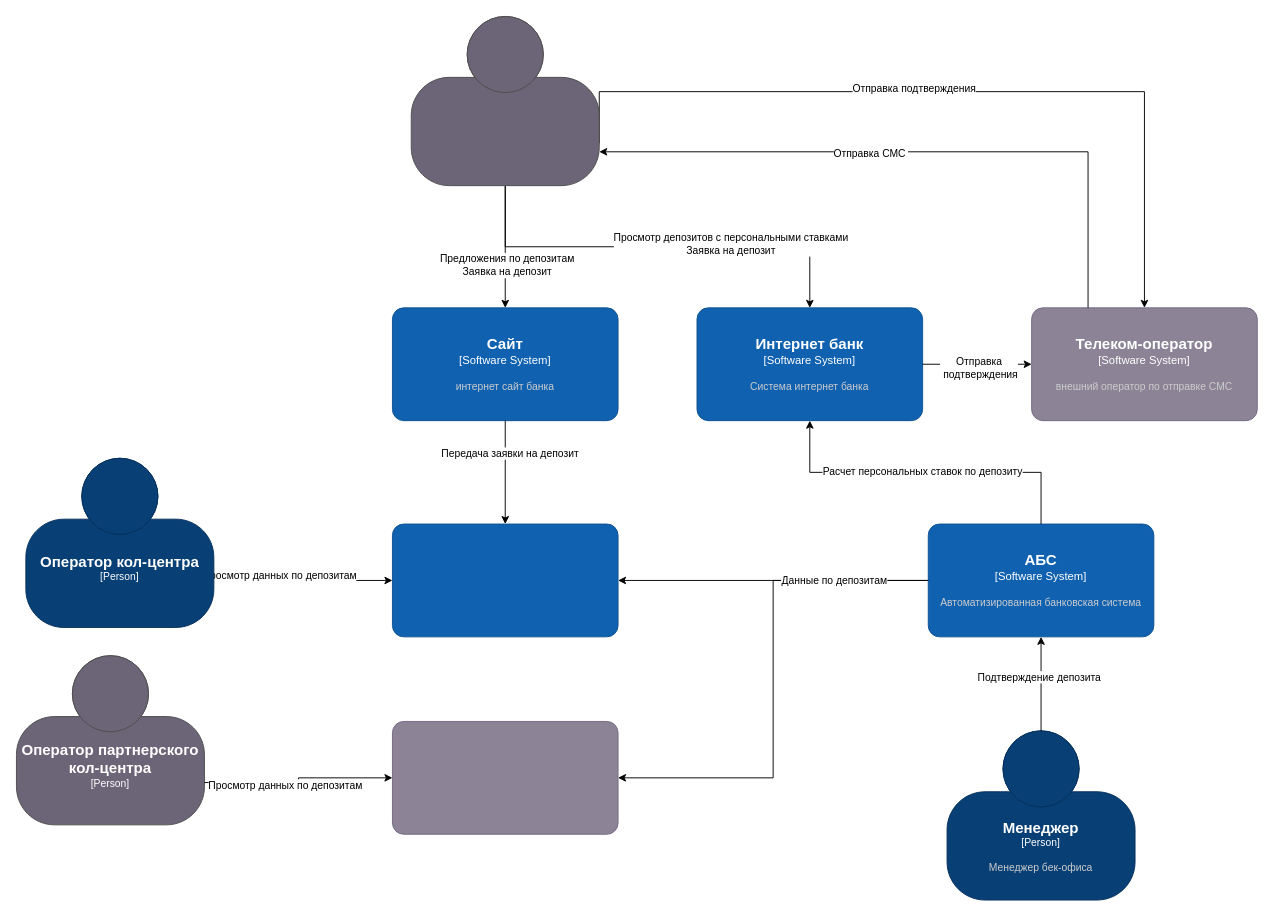
This 1274x917 diagram has some shape labels left out. The box of each missing label's shape, as (x1, y1, x2, y2) in pixels:
Клиент [Person] клиент банка: (410, 16, 599, 186)
Система кол-центра [Software System]: (392, 523, 618, 637)
Система парнтерского кол-центра [Software System]: (392, 721, 618, 834)
